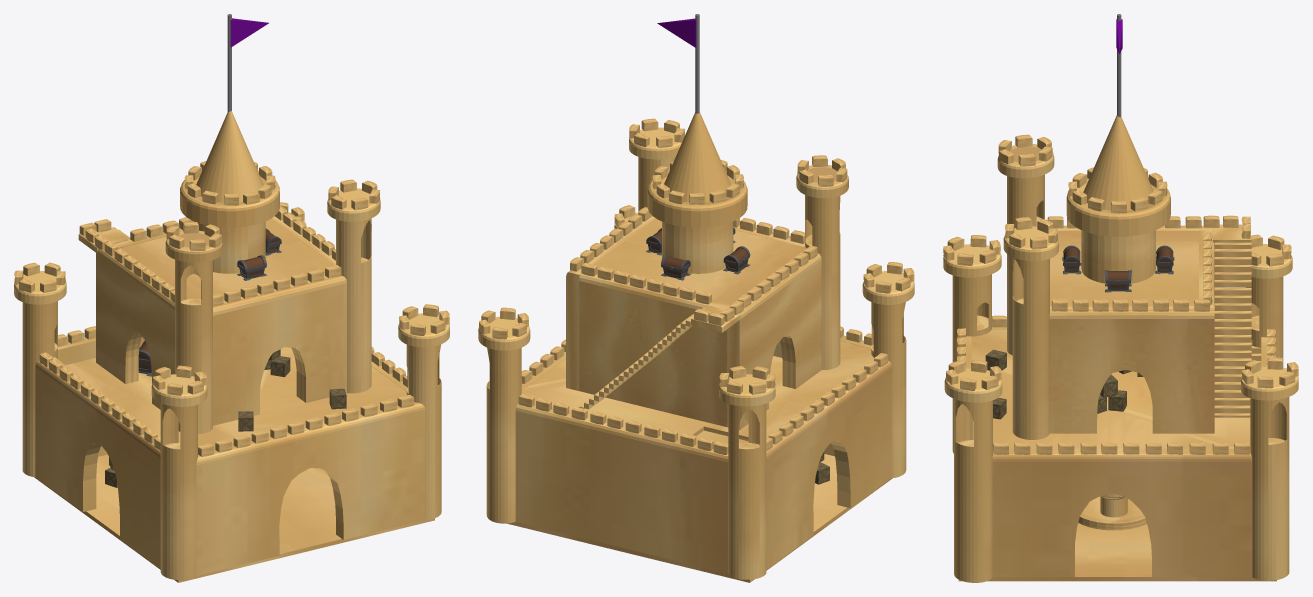
The model's file is castelodeareia.fbx.
The picture shows the model from 3 angles, left to right: view 1: azimuth 30°, elevation 25°; view 2: azimuth 150°, elevation 25°; view 3: azimuth 270°, elevation 25°; orthographic projection. The views are drawn at different scales.
Visible parts, largest first — view 1: Castelo; view 2: Castelo; view 3: Castelo.
Part boxes in pixels (x1,y1,x2,y2): Castelo: (14, 14, 449, 582); Castelo: (478, 14, 914, 582); Castelo: (943, 14, 1298, 582).
Size of the model in its own units: 3494 by 5508 by 3542.
Materials: 6 (6 with a texture image).
